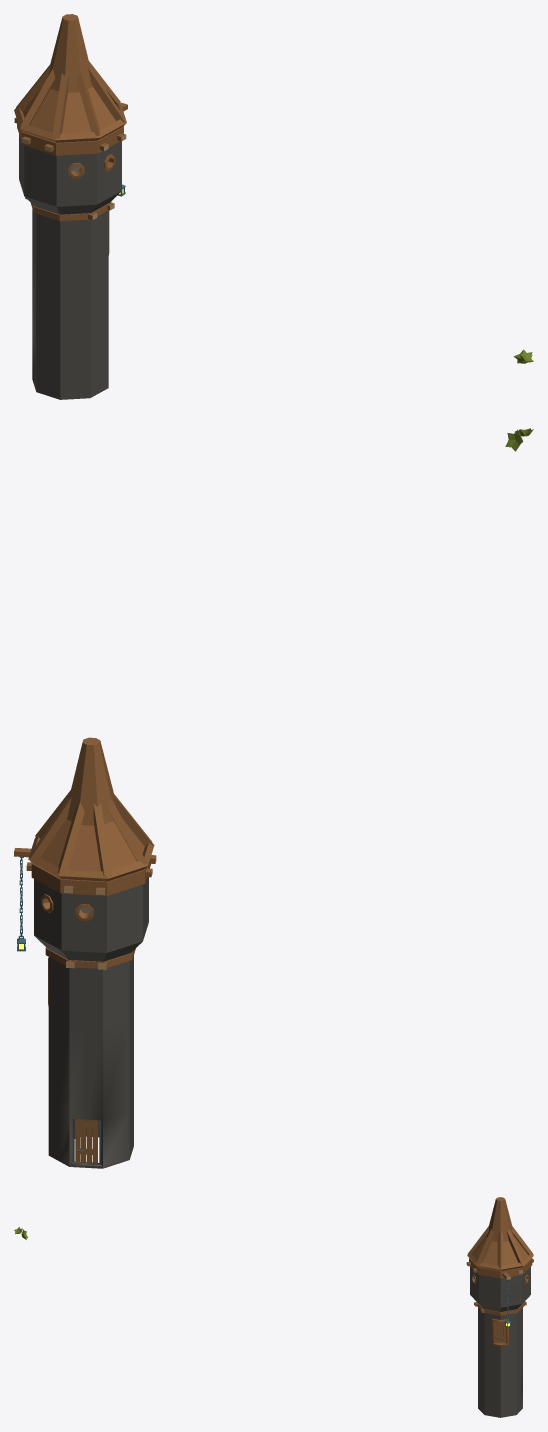
3 renders of one model, top to bottom at view 1: azimuth 30°, elevation 25°; view 2: azimuth 150°, elevation 25°; view 3: azimuth 270°, elevation 25°, orthographic. The views are drawn at different scales.
Parts seen in each view (by area): view 1: Cylinder1469_wall_0, Object126_brown_0, Object124_brown_0, Object127_brown_0, Cylinder1480_brown_0, Object125_brown_0, Cylinder1481_brown_0; view 2: Cylinder1469_wall_0, Object126_brown_0, Object124_brown_0, Object127_brown_0, Cylinder1480_brown_0, Object125_brown_0, Box15107_brown_0; view 3: Cylinder1469_wall_0, Object126_brown_0, Object124_brown_0, Object127_brown_0, Cylinder1480_brown_0, Object125_brown_0, Box632_brown_0.
Boxes of the visible parts, x1,y1,x2,y2 form: Cylinder1469_wall_0: (19,134,121,399); Object126_brown_0: (15,61,125,138); Object124_brown_0: (23,87,115,133); Object127_brown_0: (48,14,92,92); Cylinder1480_brown_0: (17,120,123,155); Object125_brown_0: (14,102,126,142); Cylinder1481_brown_0: (31,202,111,221); Cylinder1469_wall_0: (34,877,148,1168); Object126_brown_0: (29,790,153,876); Object124_brown_0: (40,819,144,871); Object127_brown_0: (66,737,116,825); Cylinder1480_brown_0: (31,861,150,895); Object125_brown_0: (28,836,154,881); Box15107_brown_0: (75,1119,97,1163); Cylinder1469_wall_0: (470,1266,530,1417); Object126_brown_0: (467,1226,533,1268); Object124_brown_0: (472,1237,528,1265); Object127_brown_0: (486,1197,514,1241); Cylinder1480_brown_0: (469,1258,532,1278); Object125_brown_0: (467,1254,533,1270); Box632_brown_0: (494,1322,506,1343).
Bounding box in the file's own units: 667 × 2045 × 4604.
